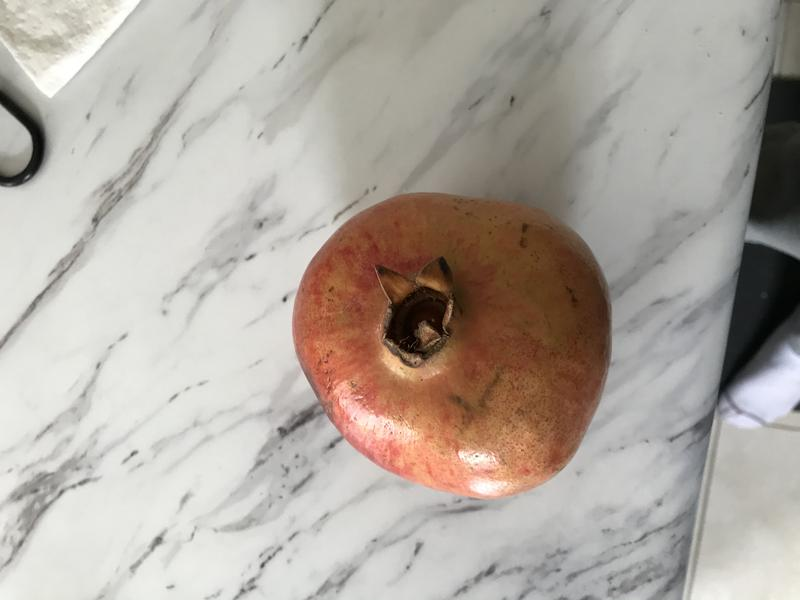pomegranate: (286, 182, 621, 508)
